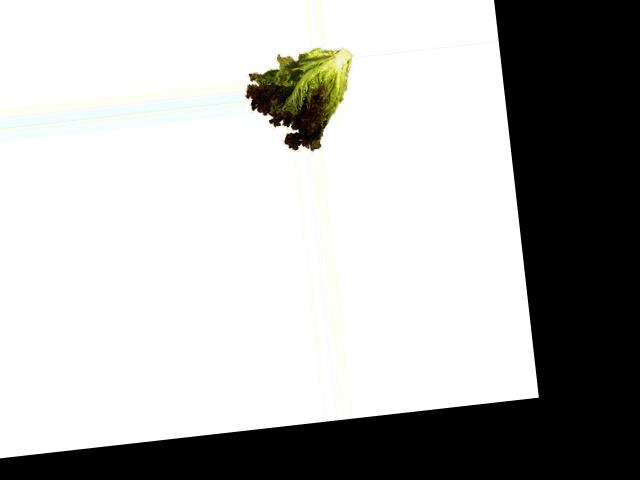lettuce: (241, 46, 360, 155)
